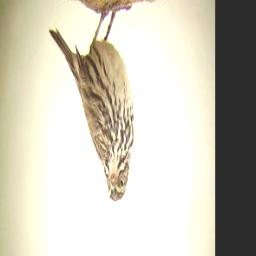Sparrow: (48, 0, 135, 204)
